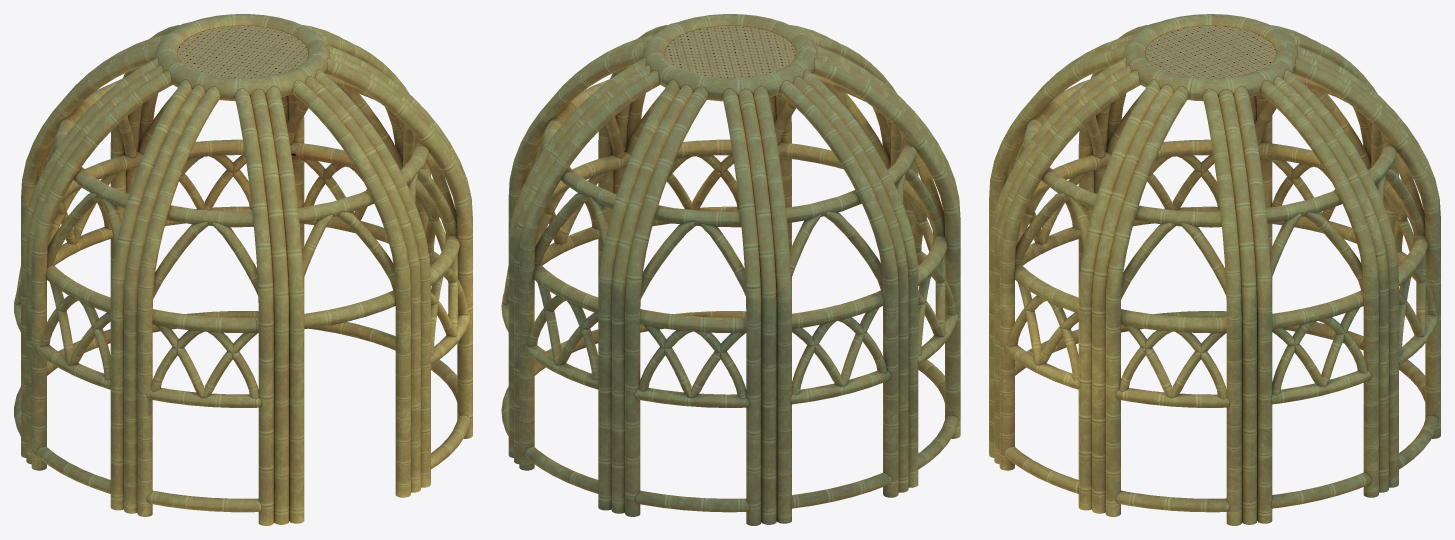
File: BambooFrame_LOD0.glb
The picture shows the model from 3 angles, left to right: view 1: azimuth 30°, elevation 25°; view 2: azimuth 150°, elevation 25°; view 3: azimuth 270°, elevation 25°; orthographic projection.
Visible parts, largest first — view 1: Bamboo Frame_PROCESSED.001_LOD0; view 2: Bamboo Frame_PROCESSED.001_LOD0; view 3: Bamboo Frame_PROCESSED.001_LOD0.
Boxes of the visible parts, x1,y1,x2,y2 form: Bamboo Frame_PROCESSED.001_LOD0: [14, 14, 472, 525]; Bamboo Frame_PROCESSED.001_LOD0: [501, 14, 960, 525]; Bamboo Frame_PROCESSED.001_LOD0: [989, 14, 1440, 525].
Bounding box in the file's own units: 23.72 × 21.8 × 23.38.
Materials: 2 (2 with a texture image).
